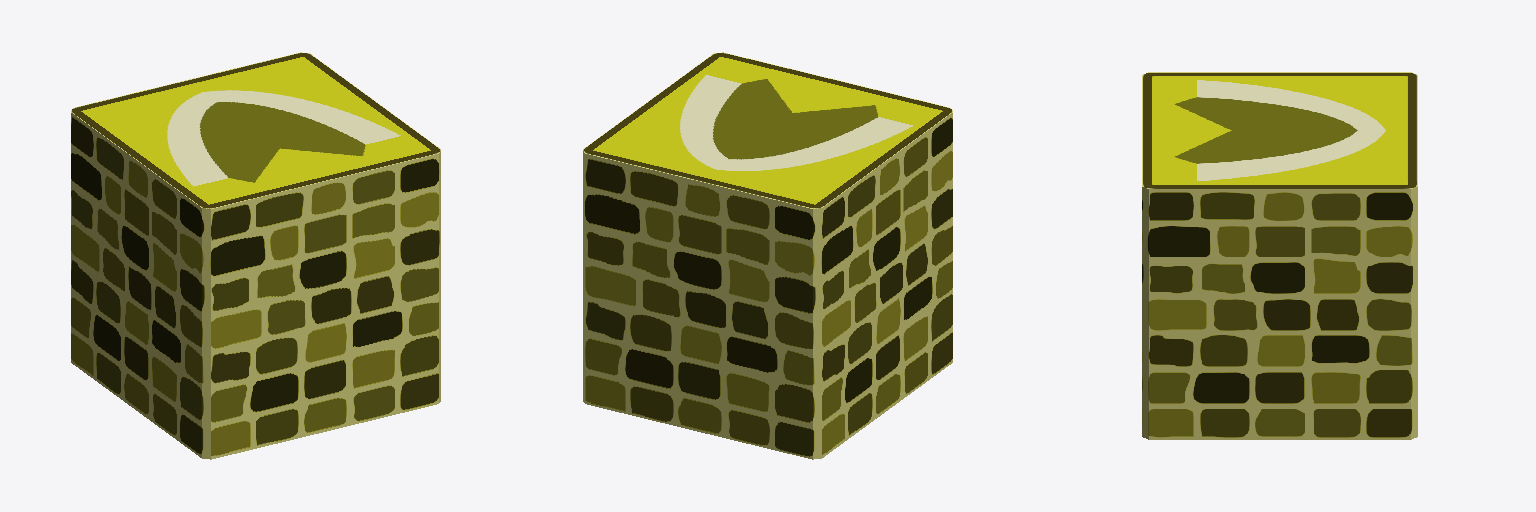
3 renders of one model, left to right at view 1: azimuth 30°, elevation 25°; view 2: azimuth 150°, elevation 25°; view 3: azimuth 270°, elevation 25°, orthographic.
Visible parts, largest first — view 1: Goal_Block; view 2: Goal_Block; view 3: Goal_Block.
Boxes of the visible parts, x1=… form: Goal_Block: x1=71, y1=52, x2=440, y2=459; Goal_Block: x1=583, y1=52, x2=952, y2=459; Goal_Block: x1=1142, y1=72, x2=1417, y2=439.
Bounding box in the file's own units: 2 × 2 × 2.
Materials: 1 (1 with a texture image).